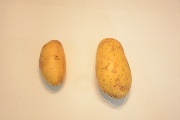potato: (96, 37, 131, 98), (39, 39, 67, 86)
